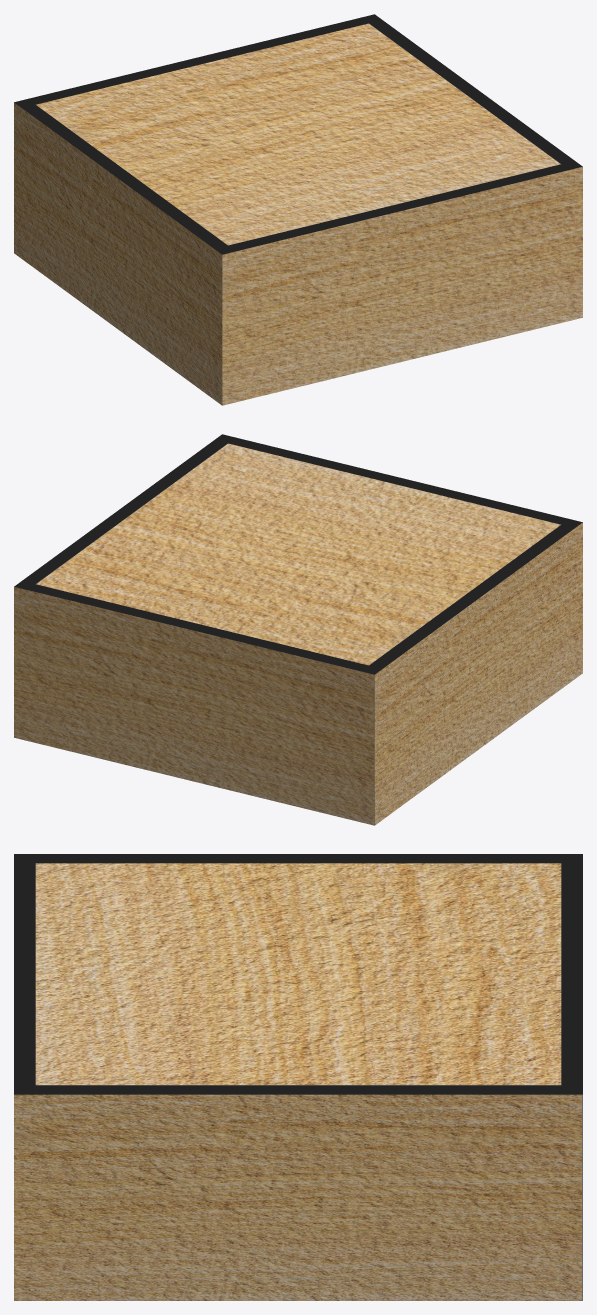
File: sandstone.FBX
3 renders of one model, top to bottom at view 1: azimuth 30°, elevation 25°; view 2: azimuth 150°, elevation 25°; view 3: azimuth 270°, elevation 25°, orthographic. The views are drawn at different scales.
Visible parts, largest first — view 1: Box001; view 2: Box001; view 3: Box001.
Part boxes in pixels (x1,y1,x2,y2): Box001: (14, 14, 582, 405); Box001: (14, 434, 582, 825); Box001: (14, 854, 582, 1300).
Bounding box in the file's own units: 50 × 20 × 50.
